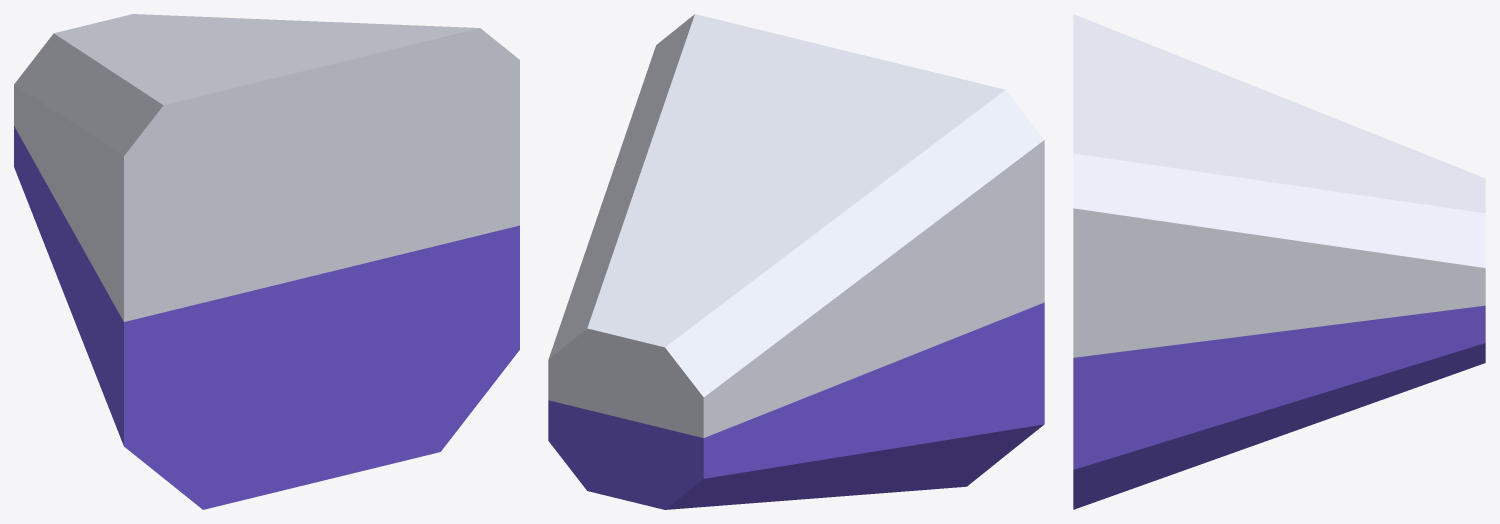
The model's file is Body_2.fbx.
3 renders of one model, left to right at view 1: azimuth 30°, elevation 25°; view 2: azimuth 150°, elevation 25°; view 3: azimuth 270°, elevation 25°, orthographic. The views are drawn at different scales.
Parts seen in each view (by area): view 1: hull_tail; view 2: hull_tail; view 3: hull_tail.
Boxes of the visible parts, box(x1,y1,x2,y2) form: hull_tail: box(14, 14, 519, 509); hull_tail: box(548, 14, 1044, 509); hull_tail: box(1073, 14, 1485, 509).
Size of the model in its own units: 10 by 10 by 10.
